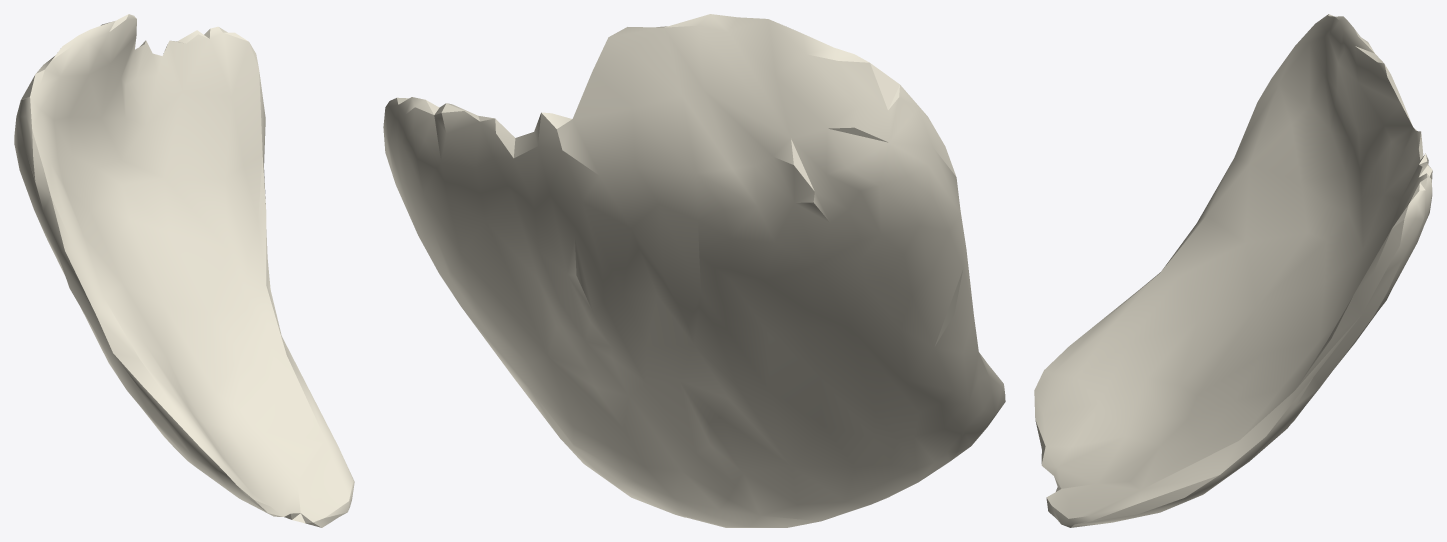
The model's file is fma321714-l_mm1457.glb.
3 renders of one model, left to right at view 1: azimuth 30°, elevation 25°; view 2: azimuth 150°, elevation 25°; view 3: azimuth 270°, elevation 25°, orthographic. The views are drawn at different scales.
Visible parts, largest first — view 1: FMA321714-L_MM1457; view 2: FMA321714-L_MM1457; view 3: FMA321714-L_MM1457.
Part boxes in pixels (x1,y1,x2,y2): FMA321714-L_MM1457: [14, 14, 354, 527]; FMA321714-L_MM1457: [383, 14, 1005, 527]; FMA321714-L_MM1457: [1034, 14, 1432, 527].
Size of the model in its own units: 0.00558 by 0.00778 by 0.00638.
